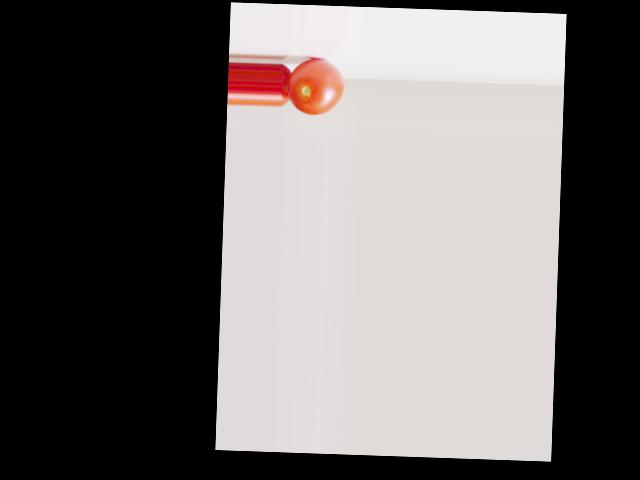tomato: (287, 58, 344, 116)
